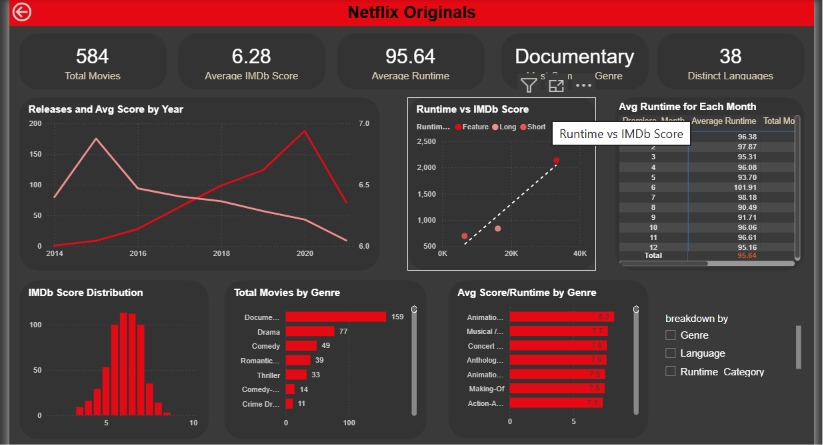

Layout of this report page (visuals, bound fields, positions):
{"tool":"powerbi","page":{"name":"Report","canvas":[1280,720],"ordinal":0},"visuals":[{"type":"card","fields":{"Values":["Cleaned_Data.Most Common Genre"]},"box":[782.6,54.1,233.8,89.1],"z":0},{"type":"lineChart","title":"Releases and Avg Score by Year","fields":{"Category":["Cleaned_Data.Premiere_Year"],"Y":["Cleaned_Data.Total Movies"],"Y2":["Cleaned_Data.Average IMDb Score"]},"box":[15.9,155.9,572.6,275.2],"z":1000},{"type":"clusteredBarChart","title":"Avg Score/Runtime by Genre","fields":{"Category":["Cleaned_Data.Genre","Cleaned_Data.Language","Cleaned_Data.Runtime_Category"],"Y":["Cleaned_Data.Average IMDb Score"]},"box":[698.3,447,318.1,251.3],"z":2000},{"type":"clusteredBarChart","fields":{"Category":["Cleaned_Data.Genre","Cleaned_Data.Language","Cleaned_Data.Runtime_Category"],"Y":["Cleaned_Data.Total Movies"]},"box":[342,447,321.3,252.9],"z":3000},{"type":"scatterChart","title":"Runtime vs IMDb Score","fields":{"X":["Sum(Cleaned_Data.Runtime_Minutes)"],"Y":["Sum(Cleaned_Data.IMDb_Score)"],"Series":["Cleaned_Data.Runtime_Category"]},"box":[633.1,155.9,300.6,275.2],"z":4000},{"type":"clusteredColumnChart","title":"IMDb Score Distribution","fields":{"Category":["Cleaned_Data.IMDb_Score (bins)"],"Y":["Cleaned_Data.Total Movies"]},"box":[15.9,447,300.6,252.9],"z":5000},{"type":"pivotTable","title":"Avg Runtime for Each Month","fields":{"Rows":["Cleaned_Data.Premiere_Month"],"Values":["Cleaned_Data.Average Runtime","Cleaned_Data.Total Movies","Cleaned_Data.Average IMDb Score"]},"box":[963.9,155.9,300.6,275.2],"z":6000},{"type":"card","fields":{"Values":["Cleaned_Data.Distinct Languages"]},"box":[1030.7,54.1,233.8,89.1],"z":7000},{"type":"card","fields":{"Values":["Cleaned_Data.Average Runtime"]},"box":[521.7,54.1,233.8,89.1],"z":8000},{"type":"card","fields":{"Values":["Cleaned_Data.Average IMDb Score"]},"box":[268.8,54.1,233.8,89.1],"z":9000},{"type":"card","fields":{"Values":["Cleaned_Data.Total Movies"]},"box":[15.9,54.1,233.8,89.1],"z":10000},{"type":"textbox","box":[0,0,1280.4,42.9],"z":11000},{"type":"actionButton","box":[0,0,100,40],"z":12000},{"type":"slicer","fields":{"Values":["breakdown by.breakdown by"]},"box":[1030.7,493.1,233.8,111.3],"z":13000}]}

Visuals, with their boxes on the page's 1280x720 design canvas (x1, y1, x2, y2). These are canvas units, not pixel positions in the 823x445 screenshot, which may show the page scaled, cropped or inside an application window:
card - Cleaned_Data.Most Common Genre: 783,54,1016,143
"Releases and Avg Score by Year" lineChart: 16,156,588,431
"Avg Score/Runtime by Genre" clusteredBarChart: 698,447,1016,698
clusteredBarChart - Cleaned_Data.Genre x Cleaned_Data.Language: 342,447,663,700
"Runtime vs IMDb Score" scatterChart: 633,156,934,431
"IMDb Score Distribution" clusteredColumnChart: 16,447,316,700
"Avg Runtime for Each Month" pivotTable: 964,156,1264,431
card - Cleaned_Data.Distinct Languages: 1031,54,1264,143
card - Cleaned_Data.Average Runtime: 522,54,756,143
card - Cleaned_Data.Average IMDb Score: 269,54,503,143
card - Cleaned_Data.Total Movies: 16,54,250,143
textbox: 0,0,1280,43
actionButton: 0,0,100,40
slicer - breakdown by.breakdown by: 1031,493,1264,604
